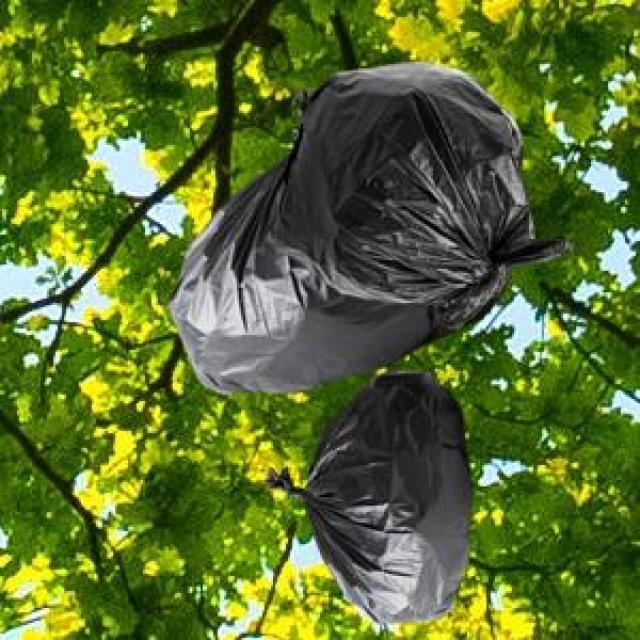Vinyl: (167, 62, 565, 392), (273, 378, 475, 621)
